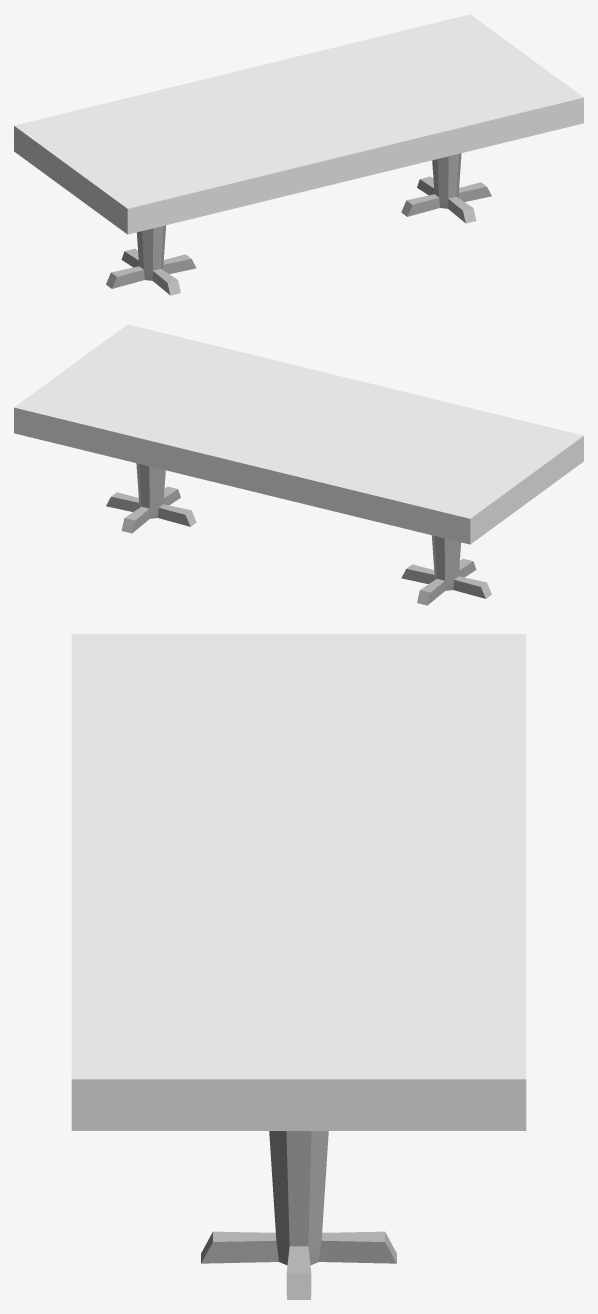
The model's file is hard_table_1.fbx.
3 views of the same model, one above another, from view 1: azimuth 30°, elevation 25°; view 2: azimuth 150°, elevation 25°; view 3: azimuth 270°, elevation 25° (orthographic). The views are drawn at different scales.
Parts seen in each view (by area): view 1: hard_table_1; view 2: hard_table_1; view 3: hard_table_1.
Part boxes in pixels (box(x1,y1,x2,y2)): hard_table_1: box(14, 14, 583, 295); hard_table_1: box(14, 324, 583, 605); hard_table_1: box(71, 634, 526, 1299).
Bounding box in the file's own units: 9.27 × 2.5 × 4.
